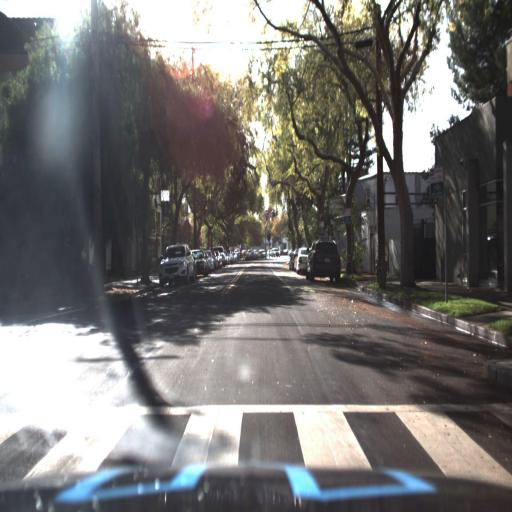car: (158, 240, 195, 288), (305, 238, 344, 283), (306, 238, 340, 277), (292, 246, 308, 275)
